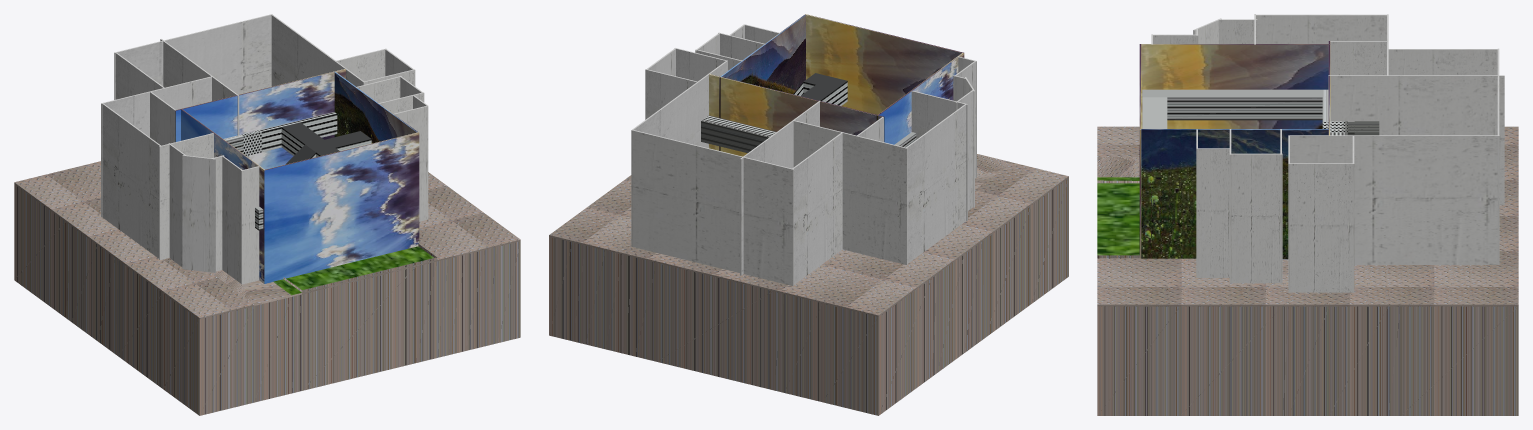
Rendered from Map_Arboreals.glb.
3 views of the same model, side by side, from view 1: azimuth 30°, elevation 25°; view 2: azimuth 150°, elevation 25°; view 3: azimuth 270°, elevation 25° (orthographic). The views are drawn at different scales.
Visible parts, largest first — view 1: Floor.001-col-col, Wall.003-col-col, Wall.019-col-col, Wall.014-col-col, Wall-col-col, PIpes-col, Wall.025-col-col, Wall.013-col-col, Wall.001-col-col, Wall.016-col-col, Grass-col, Wall.022-col-col (+12 smaller); view 2: Floor.001-col-col, Wall.014-col-col, Wall.016-col-col, Wall.003-col-col, Wall.019-col-col, Wall.015-col-col, Wall-col-col, Wall.001-col-col, PIpes-col, Wall.013-col-col, Wall.002-col-col, Wall.017-col-col (+5 smaller); view 3: Floor.001-col-col, Wall.013-col-col, Wall.017-col-col, Wall.001-col-col, Wall.002-col-col, Wall.011-col-col, PIpes-col, Wall.004-col-col, Wall.008-col-col, Wall.019-col-col, Grass-col, Wall.015-col-col (+8 smaller).
Boxes of the visible parts, x1=… form: Floor.001-col-col: x1=14, y1=161, x2=520, y2=415; Wall.003-col-col: x1=264, y1=132, x2=419, y2=283; Wall.019-col-col: x1=102, y1=103, x2=161, y2=258; Wall.014-col-col: x1=114, y1=14, x2=272, y2=99; Wall-col-col: x1=175, y1=69, x2=345, y2=169; PIpes-col: x1=223, y1=112, x2=371, y2=230; Wall.025-col-col: x1=182, y1=155, x2=215, y2=272; Wall.013-col-col: x1=271, y1=14, x2=364, y2=86; Wall.001-col-col: x1=334, y1=71, x2=417, y2=143; Wall.016-col-col: x1=101, y1=76, x2=212, y2=217; Grass-col: x1=273, y1=246, x2=433, y2=295; Wall.022-col-col: x1=221, y1=155, x2=242, y2=283; Floor.001-col-col: x1=549, y1=154, x2=1068, y2=415; Wall.014-col-col: x1=632, y1=129, x2=793, y2=285; Wall.016-col-col: x1=793, y1=120, x2=907, y2=264; Wall.003-col-col: x1=805, y1=14, x2=963, y2=114; Wall.019-col-col: x1=906, y1=104, x2=966, y2=263; Wall.015-col-col: x1=791, y1=132, x2=842, y2=284; Wall-col-col: x1=709, y1=74, x2=884, y2=156; Wall.001-col-col: x1=719, y1=14, x2=805, y2=150; PIpes-col: x1=701, y1=73, x2=916, y2=153; Wall.013-col-col: x1=631, y1=60, x2=727, y2=246; Wall.002-col-col: x1=876, y1=53, x2=964, y2=144; Wall.017-col-col: x1=740, y1=100, x2=820, y2=275; Floor.001-col-col: x1=1097, y1=126, x2=1518, y2=415; Wall.013-col-col: x1=1288, y1=135, x2=1499, y2=264; Wall.017-col-col: x1=1328, y1=75, x2=1504, y2=204; Wall.001-col-col: x1=1141, y1=129, x2=1329, y2=259; Wall.002-col-col: x1=1141, y1=44, x2=1330, y2=128; Wall.011-col-col: x1=1290, y1=163, x2=1352, y2=292; PIpes-col: x1=1142, y1=89, x2=1379, y2=135; Wall.004-col-col: x1=1230, y1=153, x2=1282, y2=283; Wall.008-col-col: x1=1197, y1=148, x2=1229, y2=277; Wall.019-col-col: x1=1254, y1=14, x2=1387, y2=43; Grass-col: x1=1097, y1=177, x2=1139, y2=255; Wall.015-col-col: x1=1388, y1=49, x2=1498, y2=75.
Bounding box in the file's own units: 100 × 62.94 × 100.
Materials: 5 (5 with a texture image).
